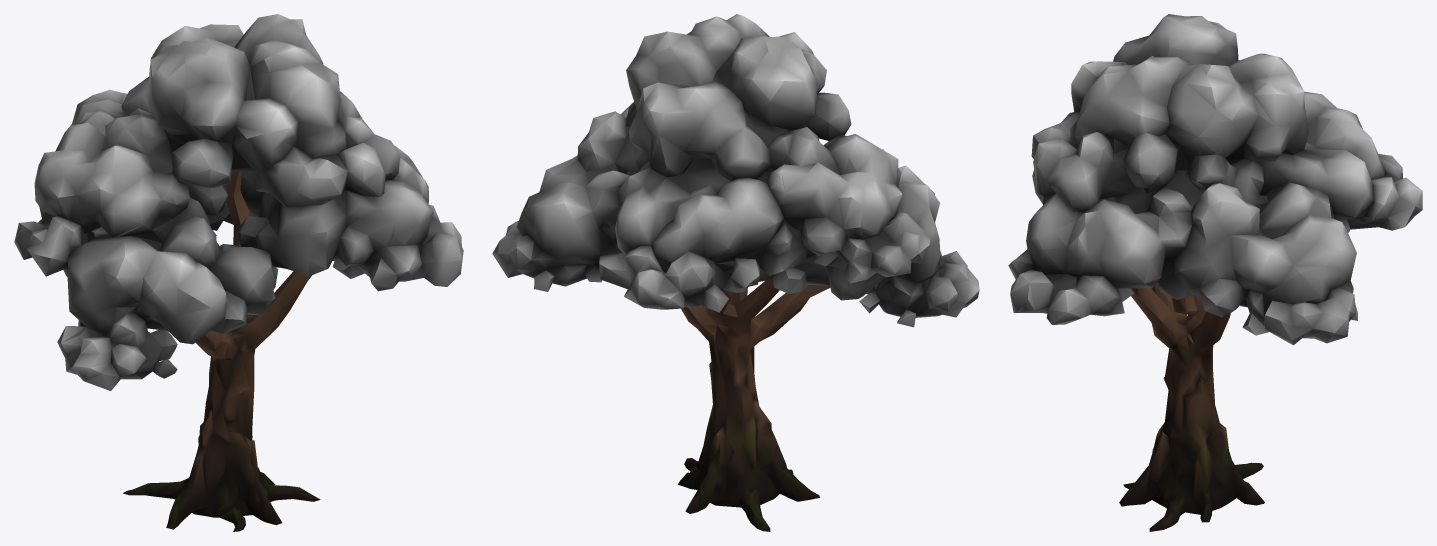
The model's file is broadleaf_a.glb.
The picture shows the model from 3 angles, left to right: view 1: azimuth 30°, elevation 25°; view 2: azimuth 150°, elevation 25°; view 3: azimuth 270°, elevation 25°; orthographic projection. The views are drawn at different scales.
Visible parts, largest first — view 1: broadleaf_a_LOD0; view 2: broadleaf_a_LOD0; view 3: broadleaf_a_LOD0.
Boxes of the visible parts, x1,y1,x2,y2 form: broadleaf_a_LOD0: (14, 14, 463, 531); broadleaf_a_LOD0: (492, 14, 979, 531); broadleaf_a_LOD0: (1008, 14, 1422, 531).
Size of what is drawn, in the model's own units: 5.85 by 6.86 by 5.55.
